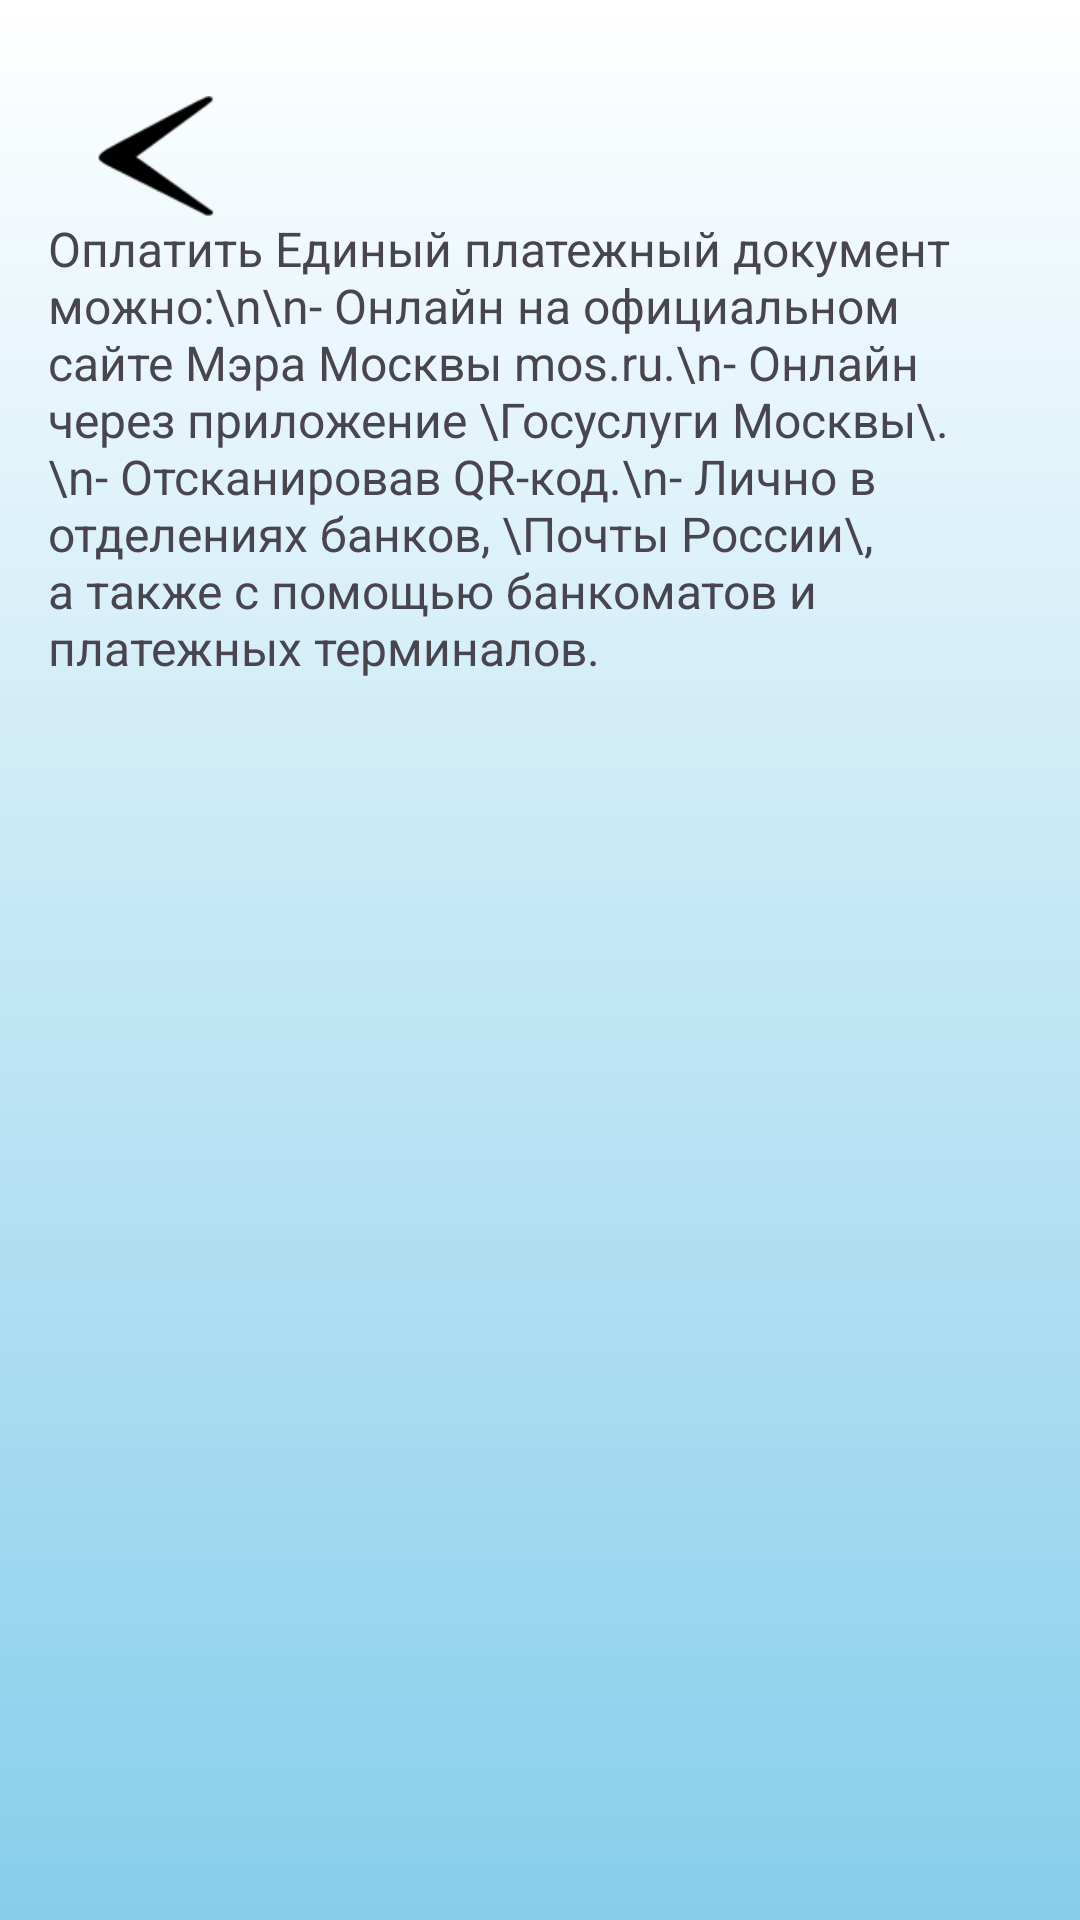

Locate icon controls on the screen. Image size 1080×1920, boxes as Rect(x1, y1, x2, y2).
arrow: Rect(98, 96, 213, 216)
